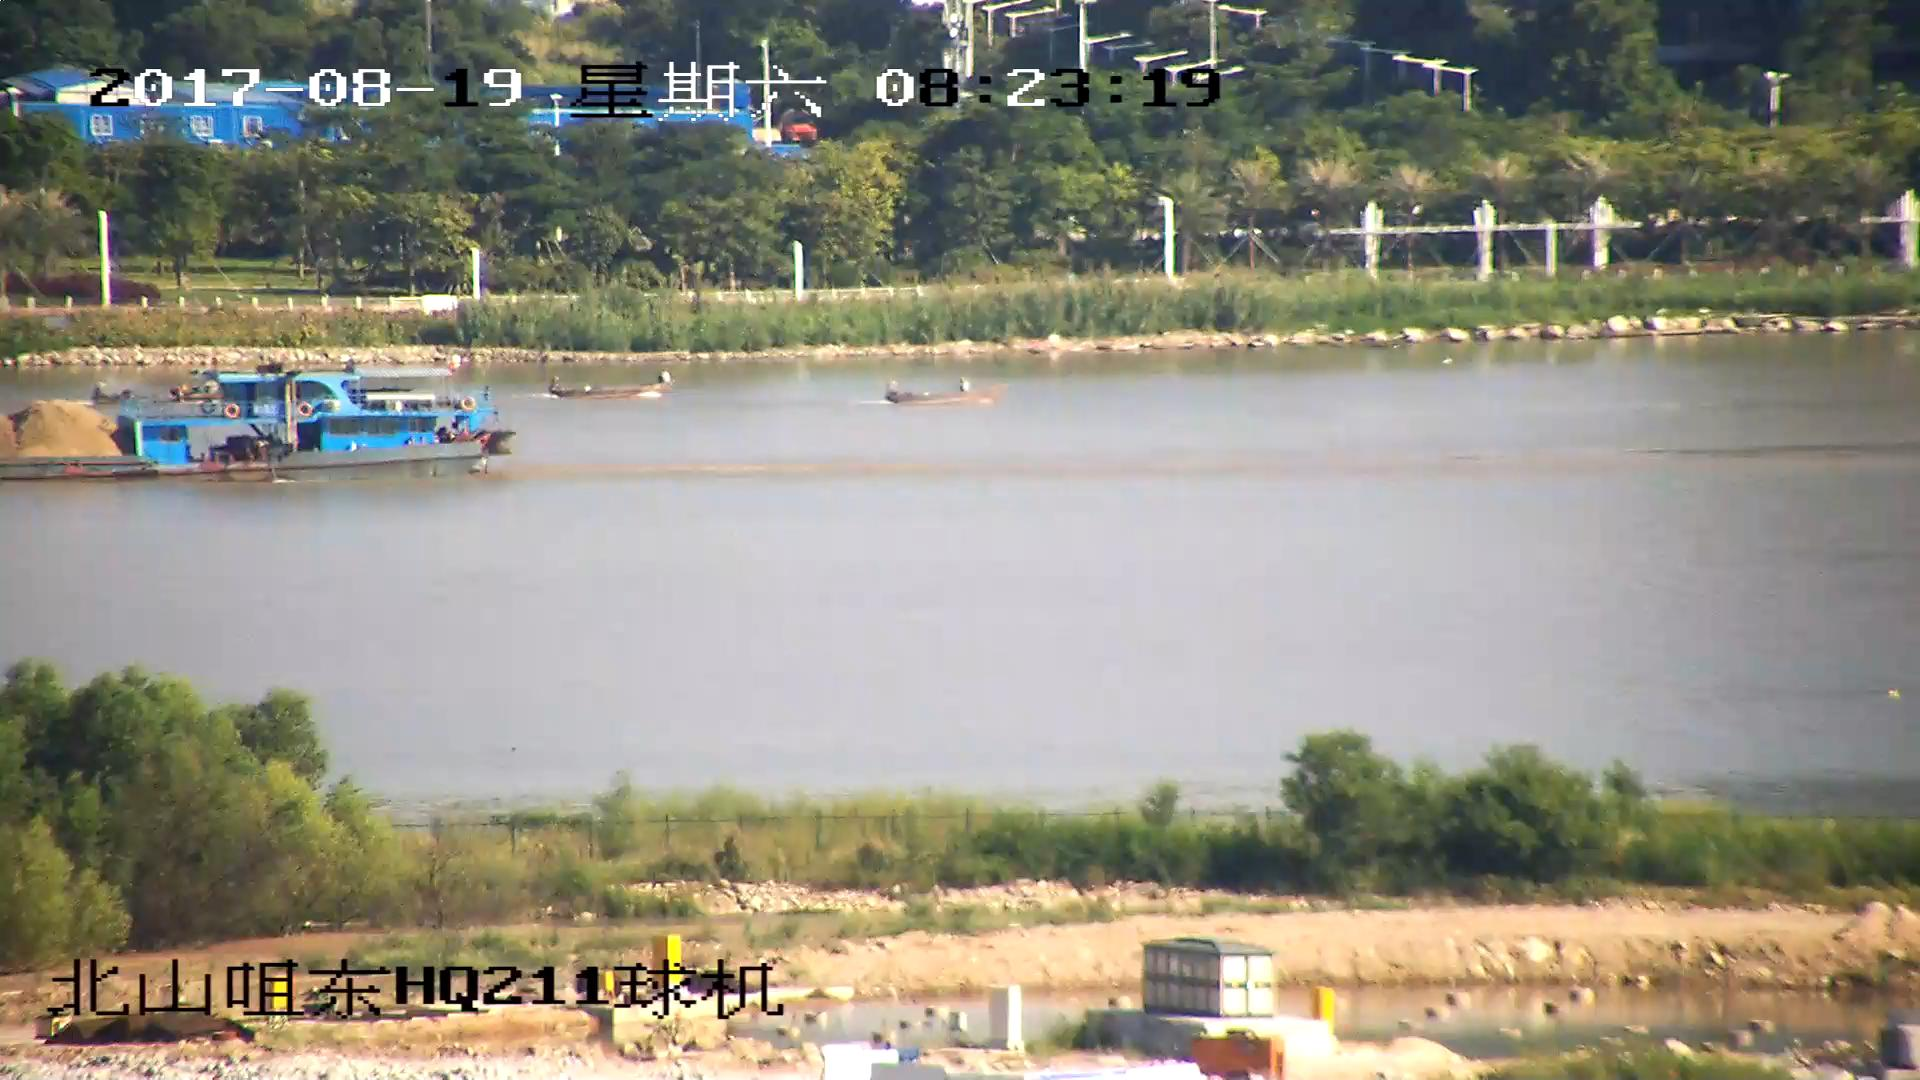fishing boat: (886, 377, 1009, 410), (547, 372, 676, 402)
ore carrier: (1, 362, 511, 485)
